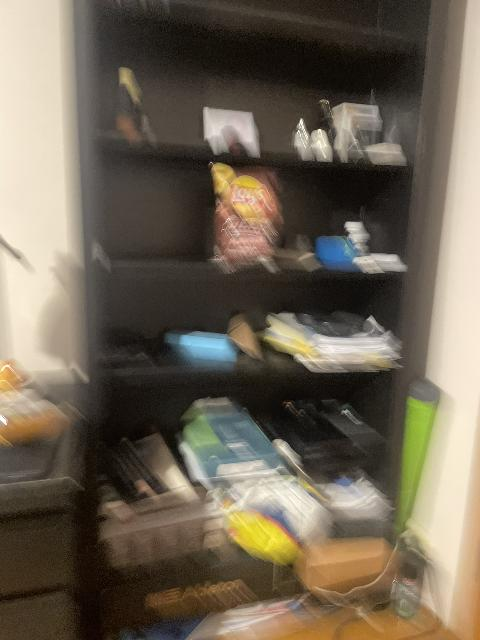Lays Beef Grilled Ribs 125g: (209, 163, 283, 271)
